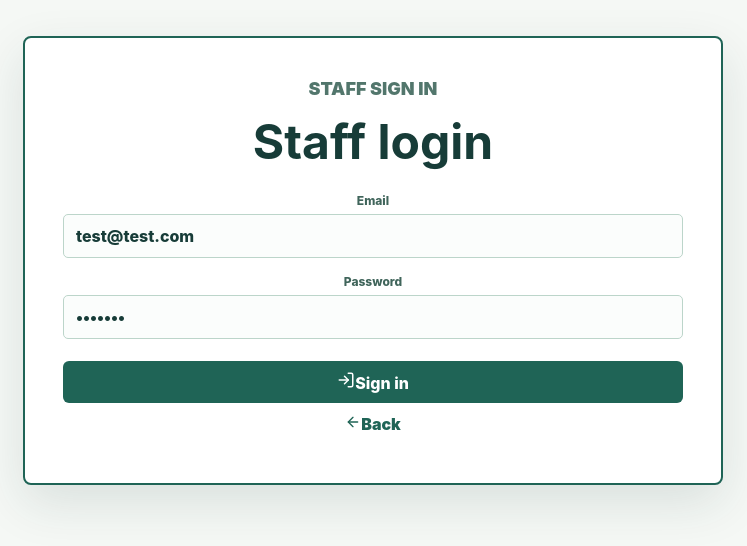
Test case: StaffLogin › shows an inline error and allows retry on failed login
Replace the text in the field labelled "Email" with "staff@kwhab.ca": (373, 236) [63,214,683,258]
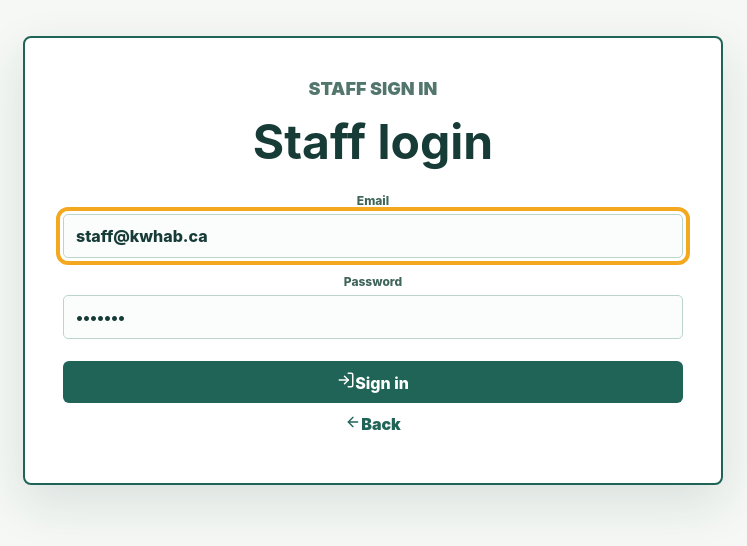
In the password field labelled "Password": (373, 316) [63,294,683,338], type "wrong"
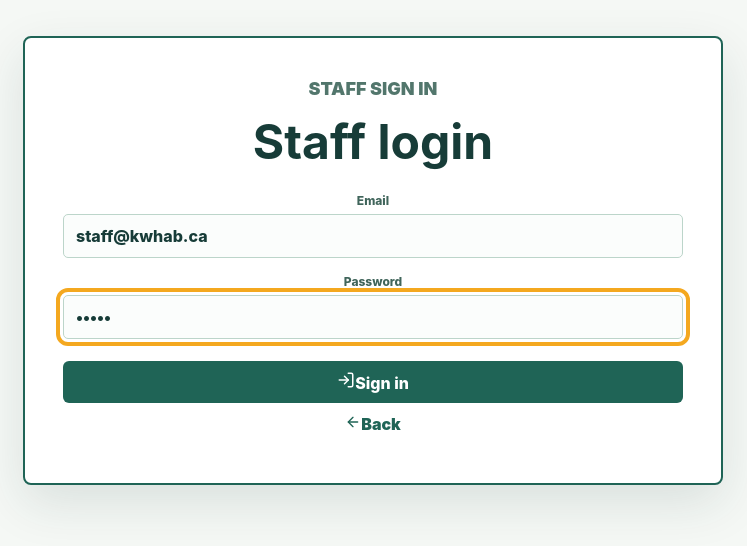
Click the button "Sign in": (373, 382) [63,360,683,402]
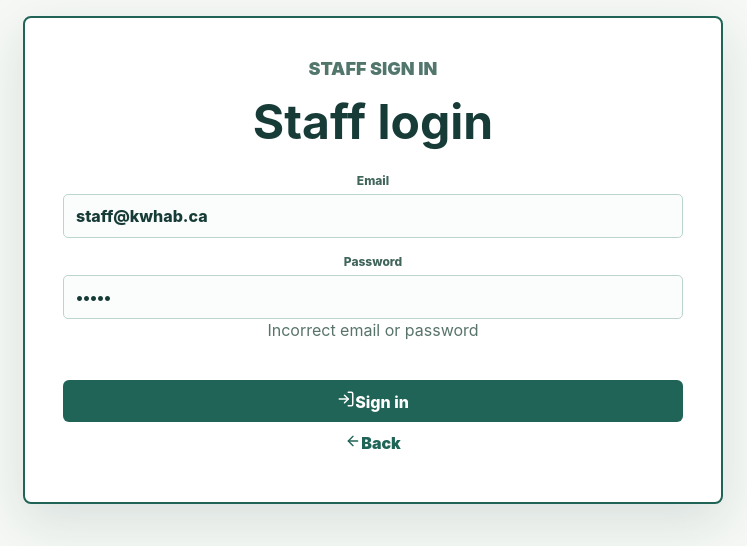
Expected: the button "Sign in" is enabled, [63,380,683,422]
Expected: the message reads "Incorrect email or password", [267,320,479,340]
